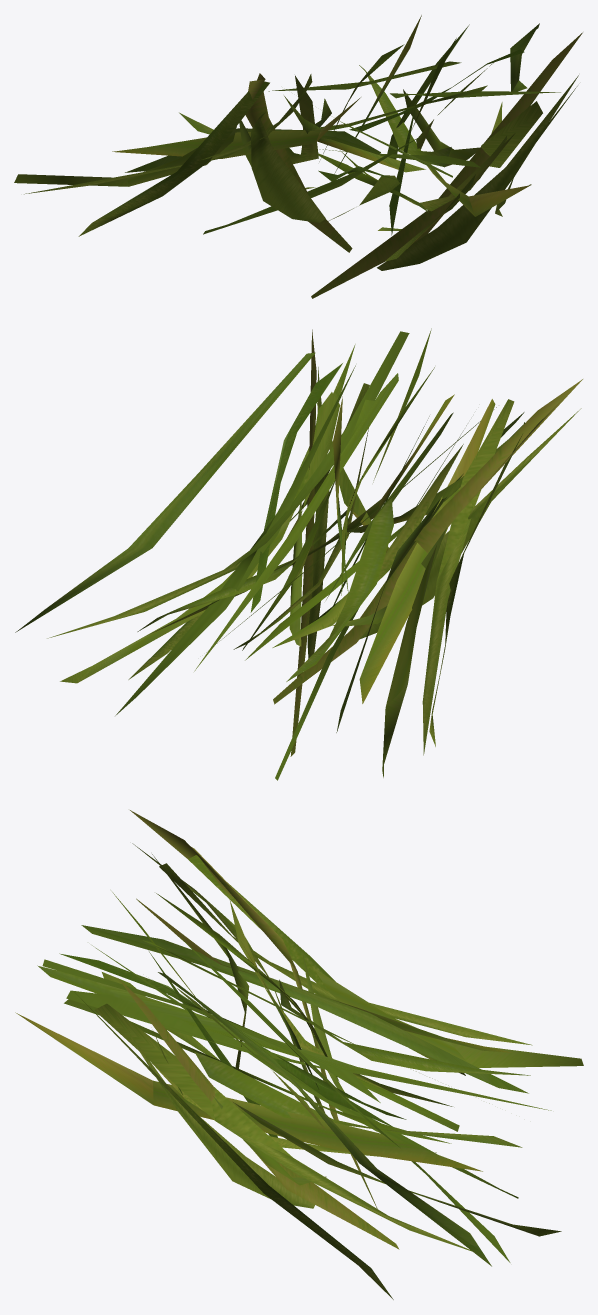
Rendered from Tuft_Lawn_C.glb.
The picture shows the model from 3 angles, top to bottom: view 1: azimuth 30°, elevation 25°; view 2: azimuth 150°, elevation 25°; view 3: azimuth 270°, elevation 25°; orthographic projection. The views are drawn at different scales.
Visible parts, largest first — view 1: Tuft_Lawn_C; view 2: Tuft_Lawn_C; view 3: Tuft_Lawn_C.
Boxes of the visible parts, x1,y1,x2,y2 form: Tuft_Lawn_C: (14,15,582,298); Tuft_Lawn_C: (15,328,582,780); Tuft_Lawn_C: (15,810,583,1299).
Bounding box in the file's own units: 0.0674 × 0.05 × 0.072.
Materials: 1 (1 with a texture image).
